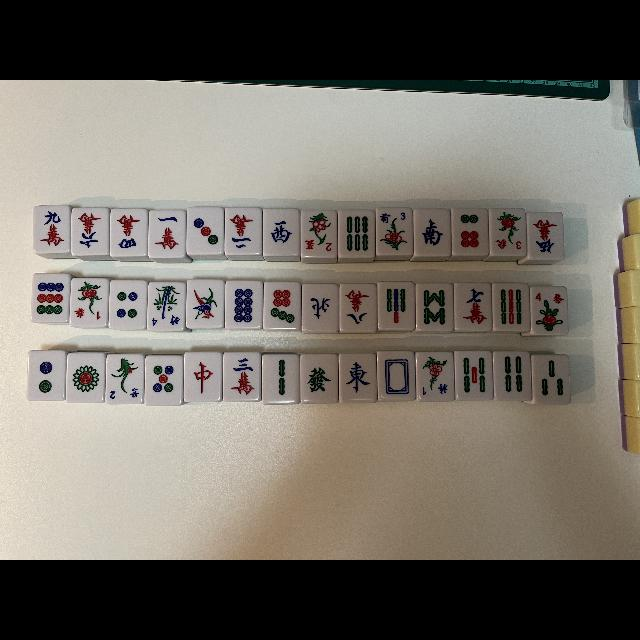b1: (187, 280, 223, 328)
b2: (263, 355, 299, 403)
b3: (532, 355, 570, 403)
b4: (494, 352, 530, 400)
b5: (456, 352, 492, 401)
b6: (338, 210, 374, 256)
b7: (378, 282, 414, 328)
b8: (415, 284, 453, 330)
b9: (492, 283, 530, 331)
c1: (149, 210, 185, 256)
c2: (225, 208, 261, 254)
c3: (224, 354, 260, 401)
c4: (111, 209, 147, 255)
c5: (526, 212, 566, 260)
c6: (72, 208, 108, 254)
c7: (454, 283, 492, 329)
c8: (340, 284, 376, 330)
c9: (33, 206, 69, 252)
d1: (68, 353, 104, 402)
d2: (27, 350, 65, 400)
d3: (186, 207, 224, 253)
d4: (110, 280, 146, 328)
d5: (146, 356, 182, 404)
d6: (450, 208, 488, 255)
d7: (264, 282, 300, 328)
d8: (225, 282, 261, 328)
d9: (32, 273, 68, 321)
dg: (300, 355, 338, 403)
dr: (184, 352, 220, 400)
dw: (378, 352, 414, 400)
f1: (416, 382, 454, 401)
f2: (106, 386, 144, 404)
f3: (376, 208, 412, 224)
f4: (148, 314, 186, 331)
s1: (70, 304, 108, 326)
s2: (300, 238, 336, 256)
s3: (489, 235, 525, 255)
s4: (531, 288, 569, 306)
we: (340, 354, 376, 402)
wn: (302, 284, 338, 330)
ws: (414, 210, 450, 256)
ww: (263, 209, 299, 255)
